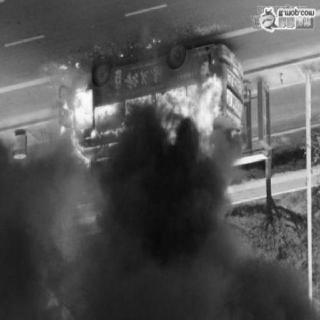Fire: (57, 46, 239, 174)
Smoke: (3, 158, 277, 318)
